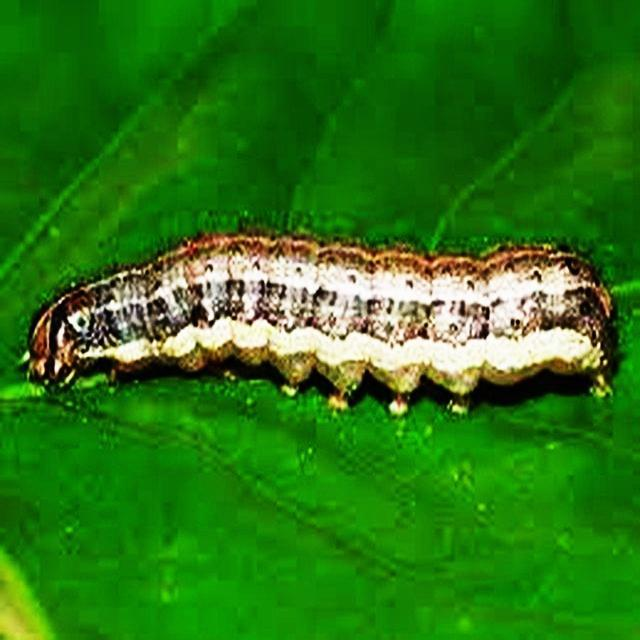Plaga: (31, 225, 624, 405)
